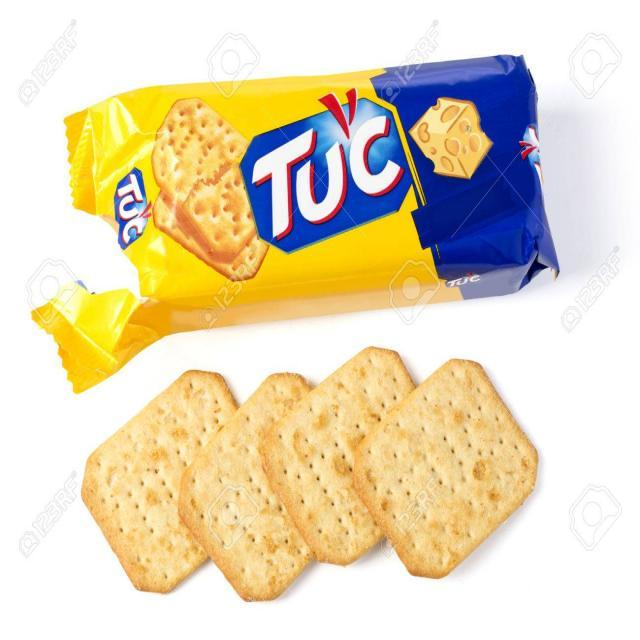Cracker: (354, 361, 541, 593), (85, 370, 251, 610), (261, 346, 426, 569), (177, 367, 327, 607)
